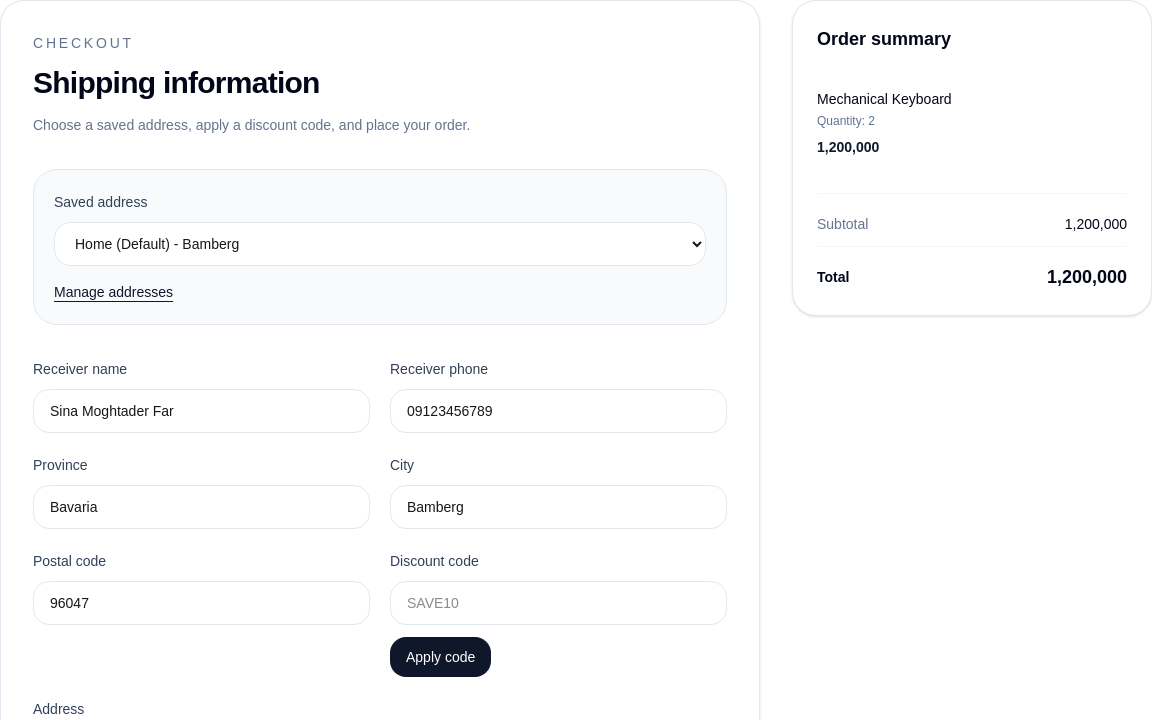
CheckoutForm › validates a discount code and shows discount preview
The image size is (1152, 720).
Expected: the heading "Shipping information" is shown, [33,66,320,99]
Step 1. Type "save10" into the field labelled "Discount code" → (558, 603), box [390,581,727,625]
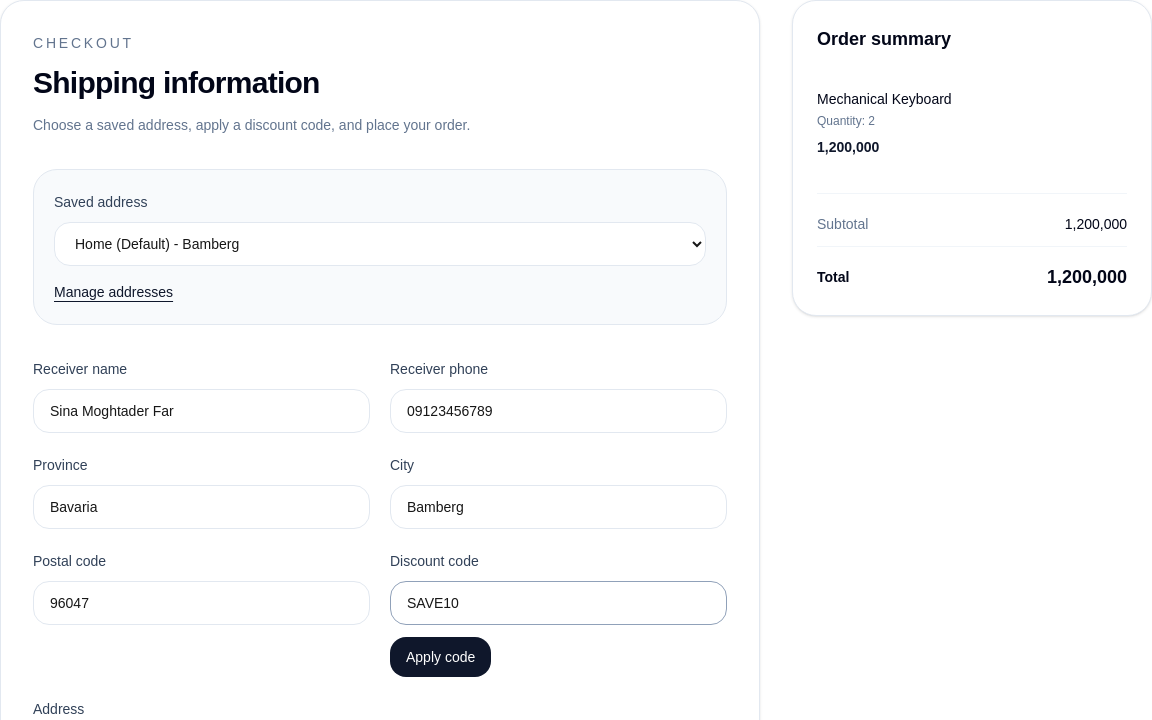
Step 2. Click the button "Apply code" → click(441, 657), box [390,637,491,677]
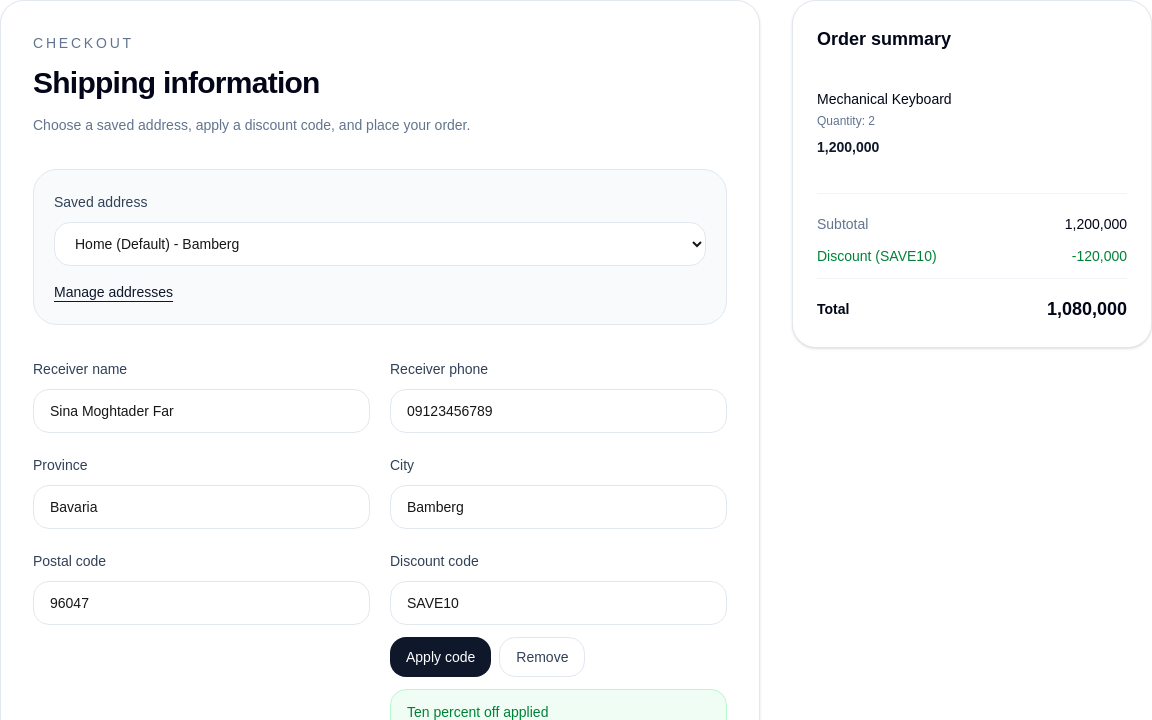
Result: the text "Ten percent off applied" is shown at [407,704,548,719]
Result: the text "Discount (SAVE10)" is shown at [817,246,937,266]
Result: the text "-120,000" is shown at [1072,246,1127,266]
